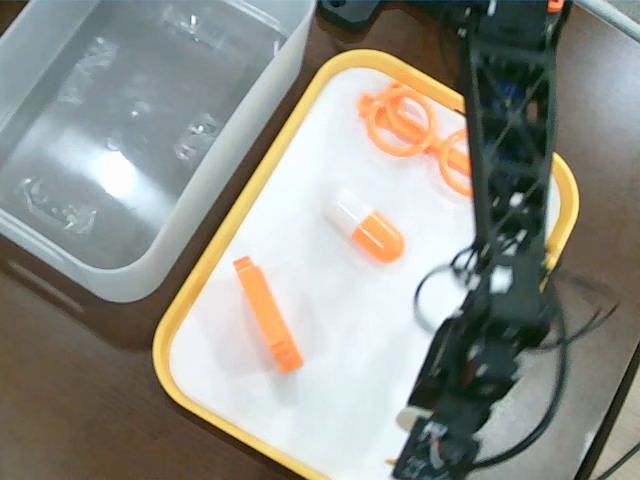pill: (321, 183, 405, 264)
